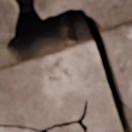brick: (0, 41, 121, 131), (102, 22, 131, 108), (49, 124, 82, 131), (0, 128, 32, 131)
broken_brick: (37, 0, 131, 16), (0, 0, 16, 49)
crack: (1, 0, 131, 131), (0, 99, 88, 131)
